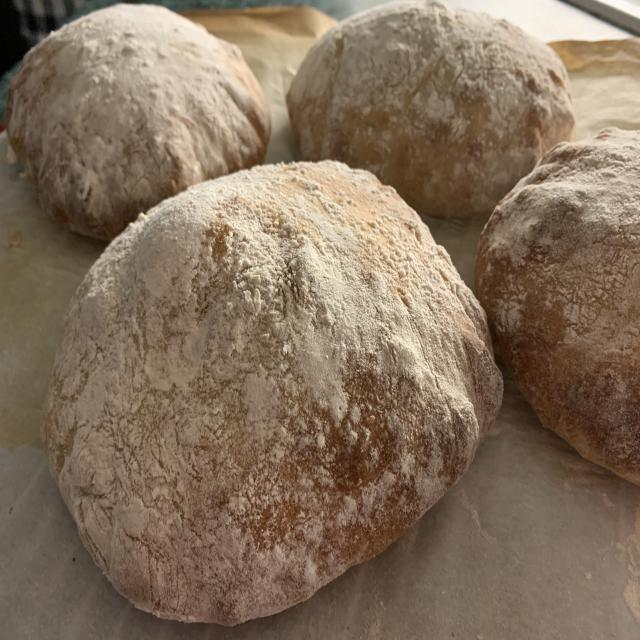Maltese-Bread: (43, 161, 503, 625), (5, 4, 271, 240), (287, 1, 575, 218), (475, 128, 640, 486)
